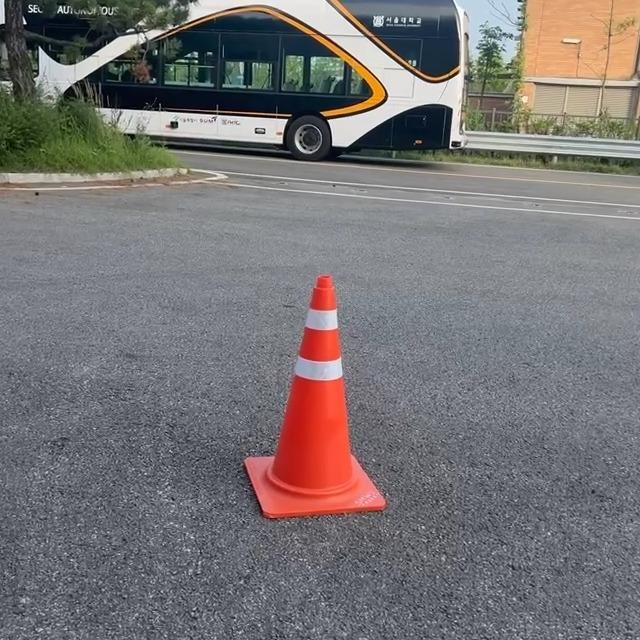fallen_object: (247, 257, 467, 574)
